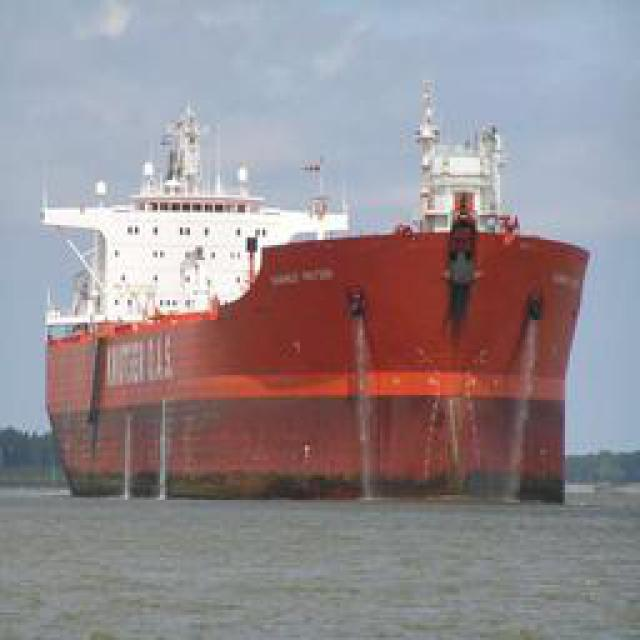Ship: (41, 91, 599, 486)
